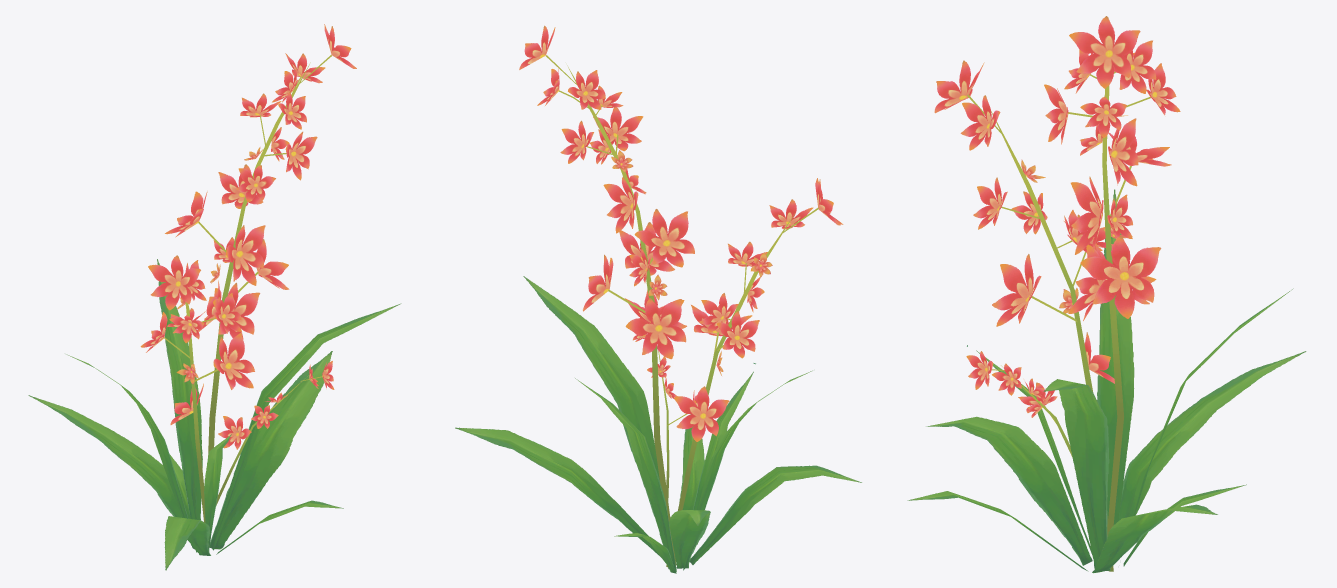
The model's file is redFlower.glb.
3 views of the same model, side by side, from view 1: azimuth 30°, elevation 25°; view 2: azimuth 150°, elevation 25°; view 3: azimuth 270°, elevation 25° (orthographic). The views are drawn at different scales.
Parts seen in each view (by area): view 1: Area_Common_Prop_Flower_Red_01_Vo; view 2: Area_Common_Prop_Flower_Red_01_Vo; view 3: Area_Common_Prop_Flower_Red_01_Vo.
Part boxes in pixels (<box>): Area_Common_Prop_Flower_Red_01_Vo: <box>28,24,401,570</box>; Area_Common_Prop_Flower_Red_01_Vo: <box>455,25,861,573</box>; Area_Common_Prop_Flower_Red_01_Vo: <box>907,16,1306,573</box>.
Bounding box in the file's own units: 0.8855 × 1.26 × 0.773.
1 material, 1 textured.
